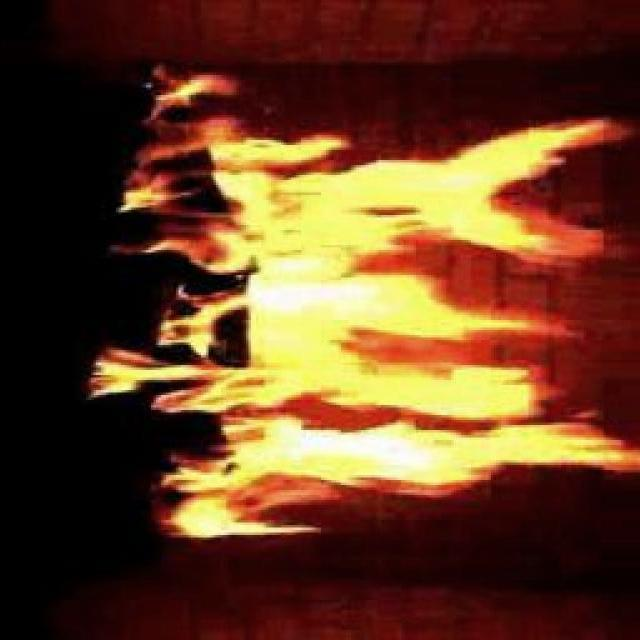Fire: (161, 122, 567, 520)
